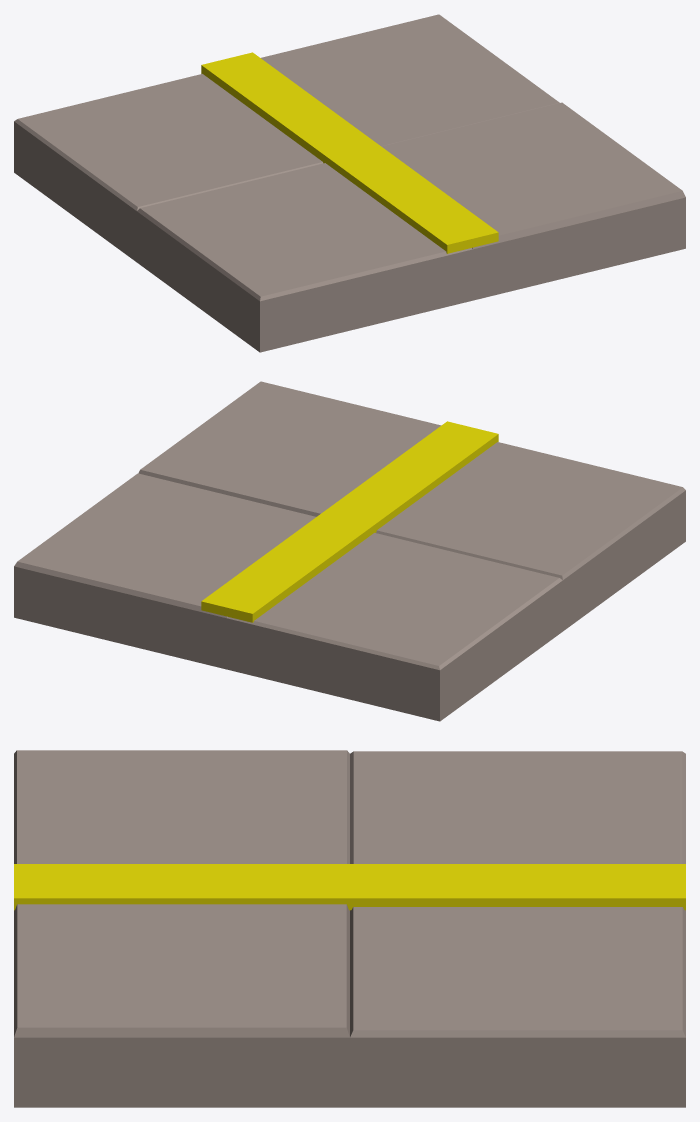
File: Straight.fbx
The picture shows the model from 3 angles, top to bottom: view 1: azimuth 30°, elevation 25°; view 2: azimuth 150°, elevation 25°; view 3: azimuth 270°, elevation 25°; orthographic projection. The views are drawn at different scales.
Visible parts, largest first — view 1: Plane.004, Plane.005; view 2: Plane.004, Plane.005; view 3: Plane.004, Plane.005.
Part boxes in pixels (x1,y1,x2,y2): Plane.004: (14, 14, 685, 352); Plane.005: (201, 52, 498, 253); Plane.004: (14, 381, 685, 721); Plane.005: (201, 421, 498, 622); Plane.004: (14, 750, 685, 1107); Plane.005: (14, 864, 685, 910).
Bounding box in the file's own units: 200 × 27.79 × 200.
